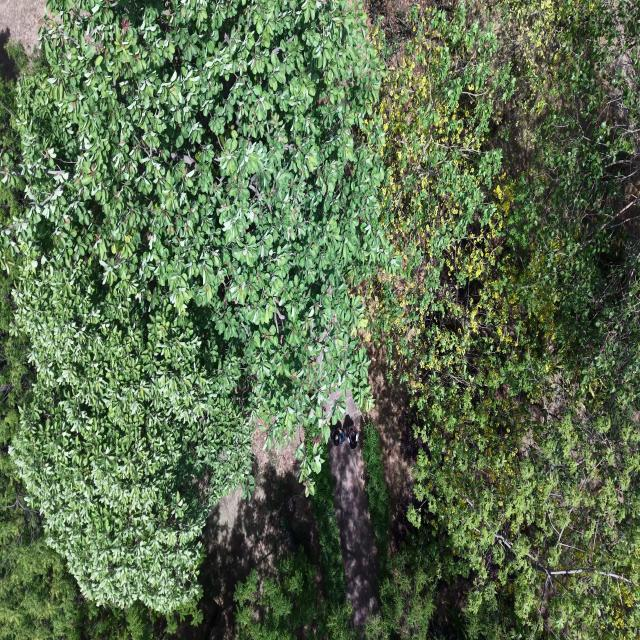DRY_AREA: (176, 430, 319, 639), (177, 430, 319, 639), (179, 430, 319, 639), (178, 432, 318, 639), (181, 430, 319, 639), (179, 434, 317, 639), (182, 464, 319, 639), (367, 345, 422, 554), (368, 348, 419, 552), (368, 349, 417, 550), (329, 441, 379, 628), (329, 442, 379, 627), (370, 353, 414, 511), (362, 0, 415, 68), (0, 0, 45, 78), (0, 0, 45, 53), (362, 0, 415, 42)
VEGETATION_TREE: (0, 0, 639, 639), (6, 0, 384, 613), (371, 0, 639, 637), (0, 244, 152, 639), (0, 251, 81, 639), (234, 454, 357, 639), (235, 545, 357, 639), (306, 435, 345, 607), (360, 420, 389, 576)
